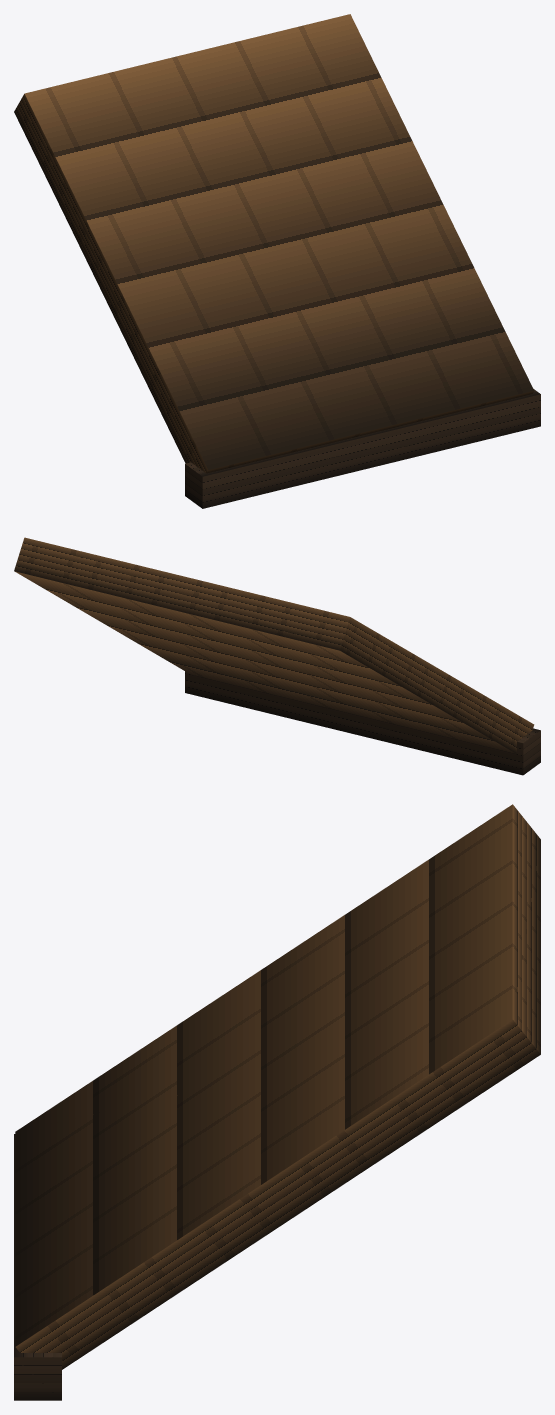
File: roof_slope_shake.gltf
3 views of the same model, one above another, from view 1: azimuth 30°, elevation 25°; view 2: azimuth 150°, elevation 25°; view 3: azimuth 270°, elevation 25° (orthographic). The views are drawn at different scales.
Parts seen in each view (by area): view 1: roof_slope_shake; view 2: roof_slope_shake; view 3: roof_slope_shake.
Part boxes in pixels (bbox=[...]): roof_slope_shake: bbox=[14, 14, 540, 508]; roof_slope_shake: bbox=[14, 537, 540, 775]; roof_slope_shake: bbox=[14, 804, 540, 1400].
Size of the model in its own units: 1.1 by 0.8666 by 1.1.
Materials: 1 (1 with a texture image).
